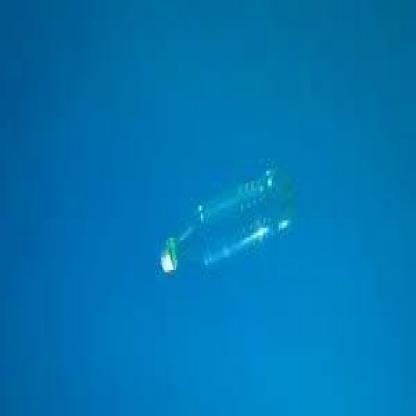pbottle: (153, 158, 305, 288)
